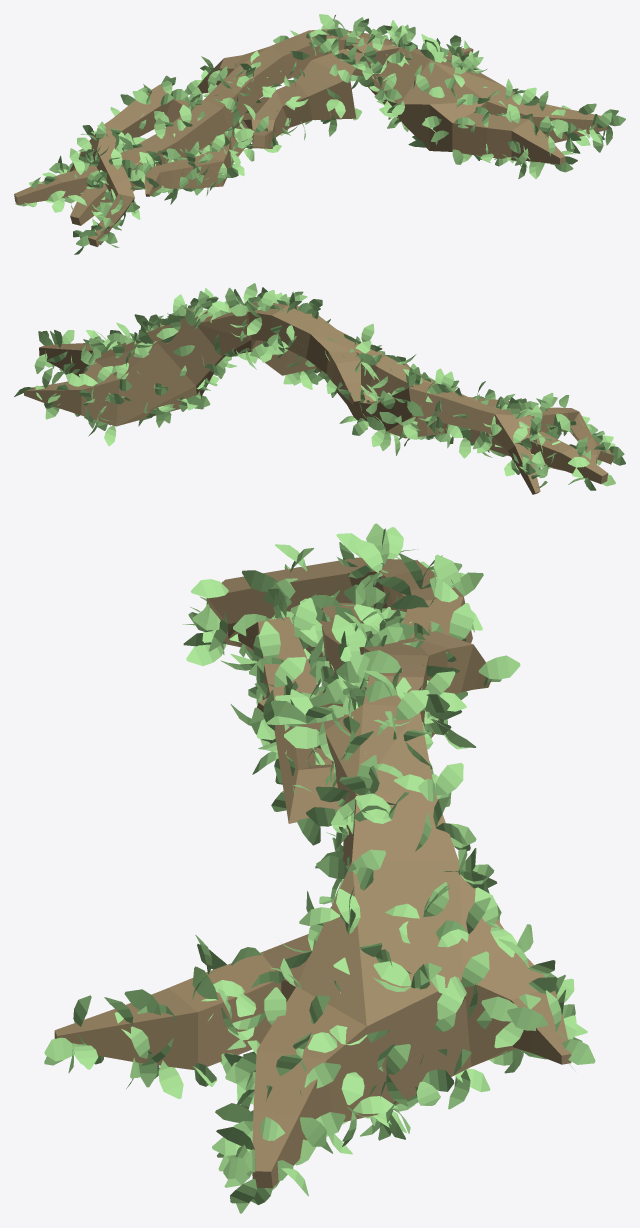
The model's file is bridge09.fbx.
3 renders of one model, top to bottom at view 1: azimuth 30°, elevation 25°; view 2: azimuth 150°, elevation 25°; view 3: azimuth 270°, elevation 25°, orthographic. The views are drawn at different scales.
Parts seen in each view (by area): view 1: Tree2; view 2: Tree2; view 3: Tree2.
Boxes of the visible parts, x1,y1,x2,y2 form: Tree2: (14, 29, 607, 246); Tree2: (24, 302, 613, 494); Tree2: (54, 557, 571, 1188).
Bounding box in the file's own units: 2163 × 585 × 904.
